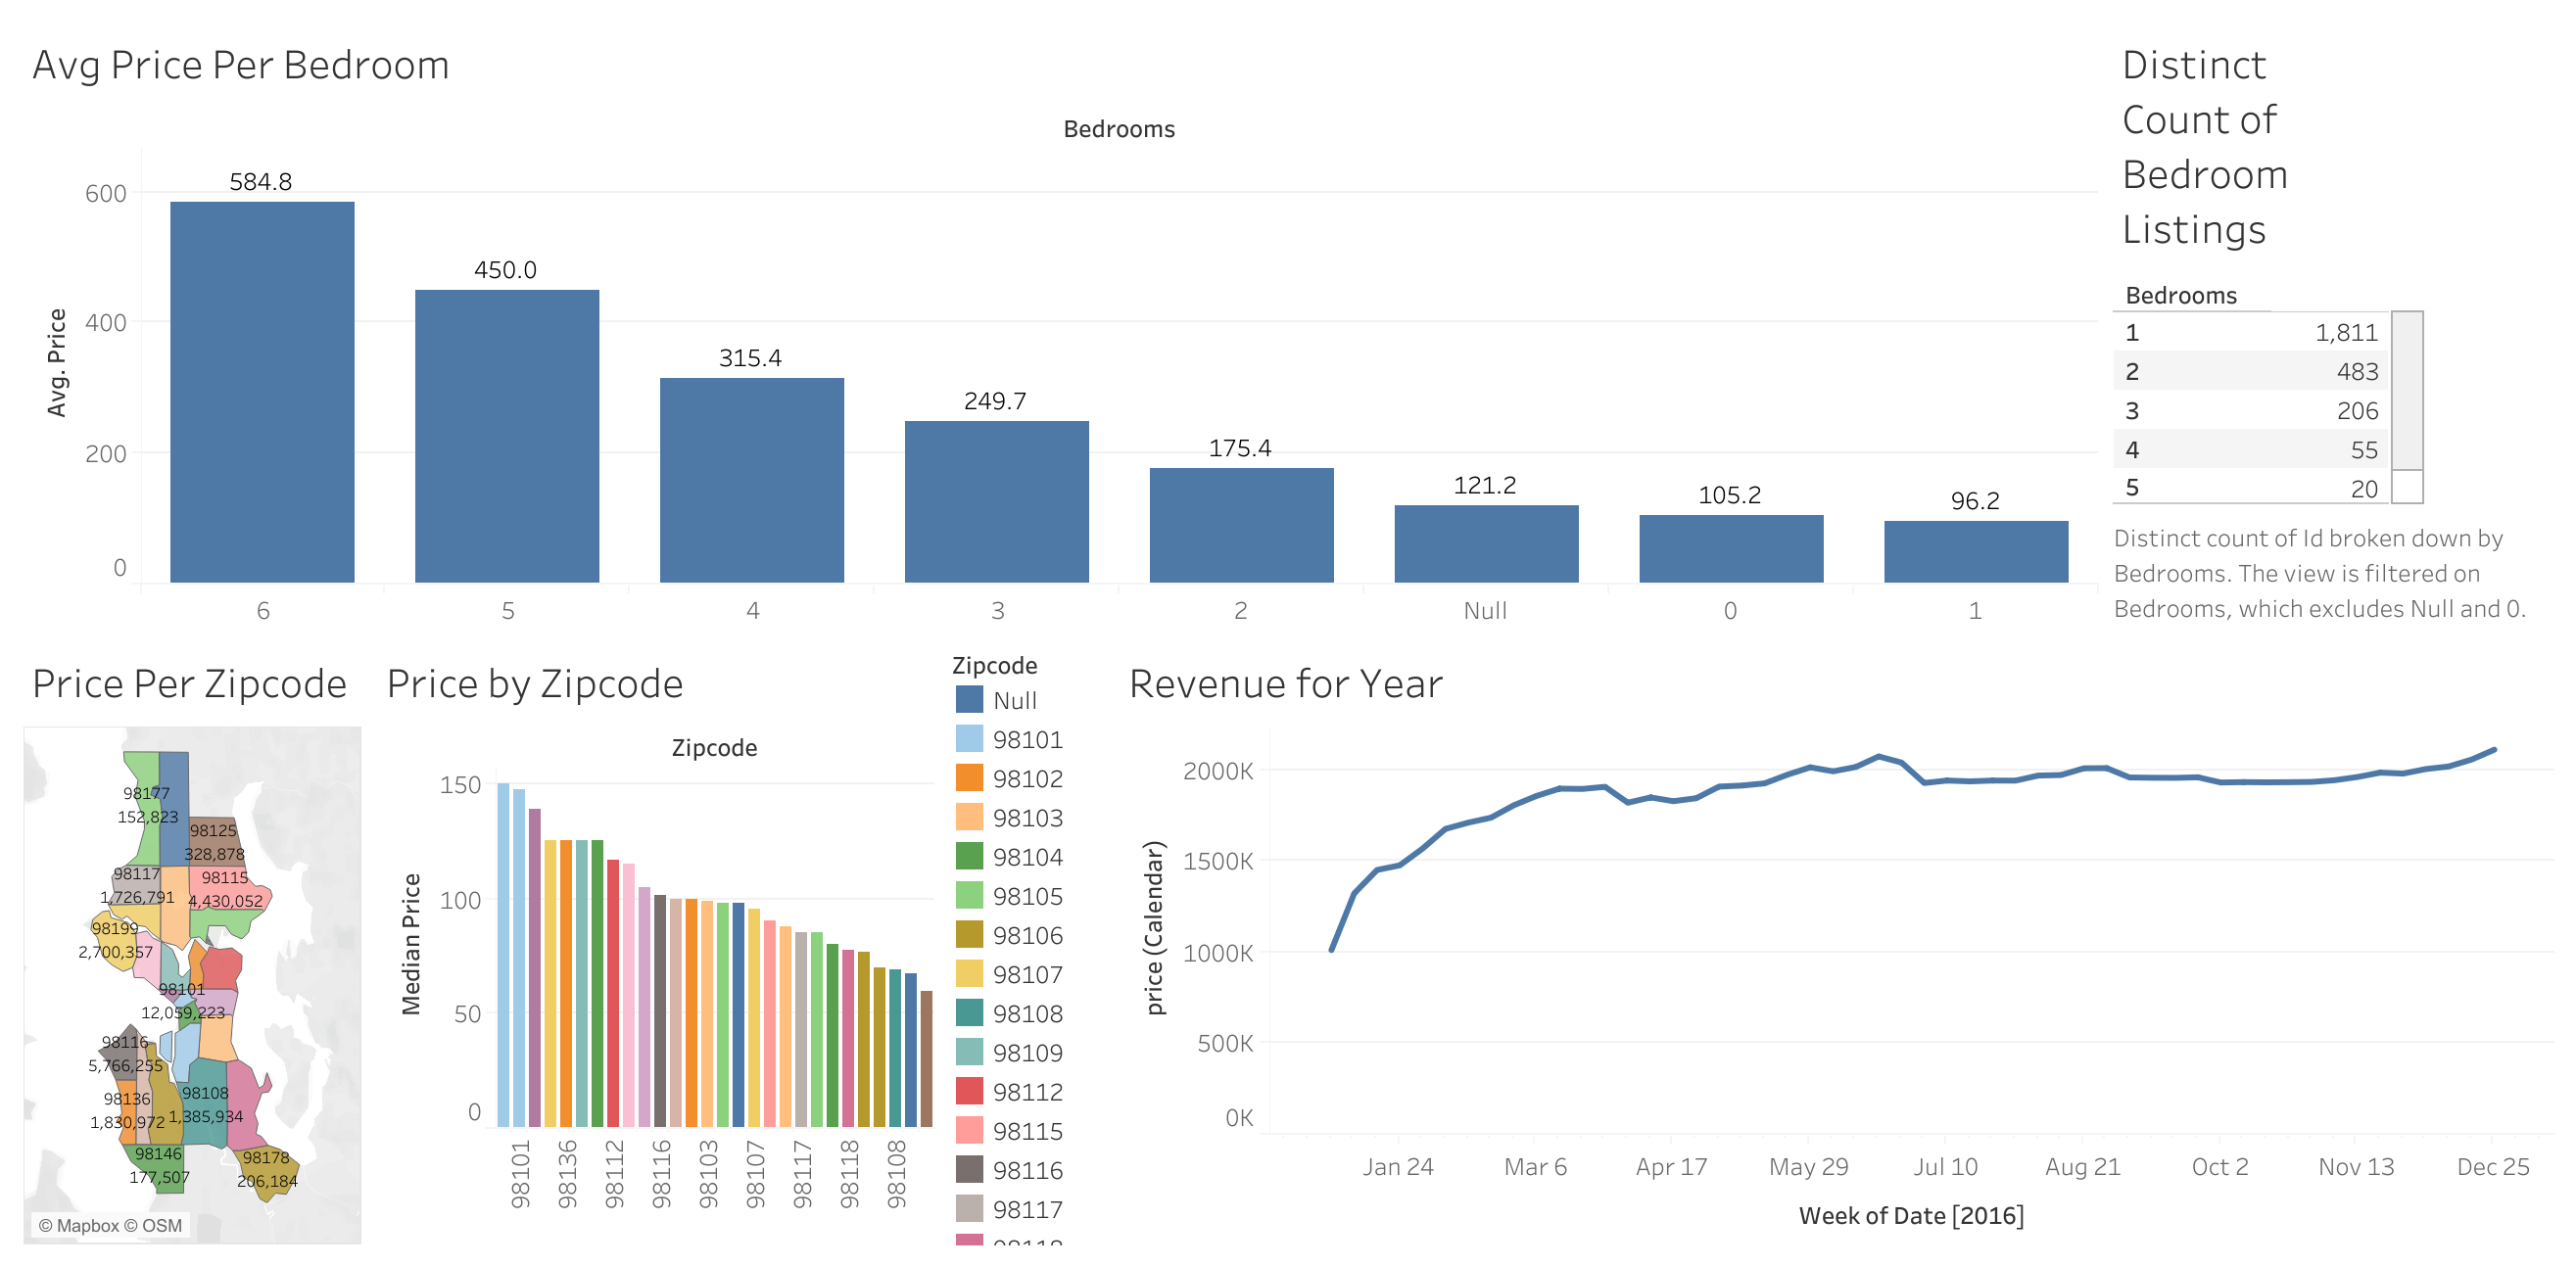

What the dashboard file says about the page in this screenshot:
{"tool":"tableau","page":{"name":"Dashboard 1","canvas":[1000,1000],"units":"permille","ordinal":0},"visuals":[{"type":"worksheet","title":"Sheet 4","mark":"Automatic","rows":["price"],"cols":["bedrooms"],"box":[9.4,10.7,805.2,488.6]},{"type":"worksheet","title":"Sheet 5","mark":"Automatic","rows":["bedrooms"],"box":[814.6,10.7,176.1,488.6]},{"type":"worksheet","title":"Sheet 2","mark":"Multipolygon","box":[9.4,499.3,212.4,490]},{"type":"worksheet","title":"Sheet 1","mark":"Automatic","rows":["price"],"cols":["zipcode"],"box":[221.8,499.3,342.7,490]},{"type":"legend","title":"Sheet 1","param":"[federated.1q60x8v0cqzh5m1di98ho1t0lswb].[none:zipcode:ok]","box":[564.6,499.3,102.1,490]},{"type":"worksheet","title":"Sheet 3","mark":"Automatic","rows":["price (Calendar)"],"cols":["date"],"box":[666.7,499.3,323.9,490]}]}

Visuals, with their boxes on the dashboard's canvas, which has no fixed pixel size, in thousandths of its width and height (x1, y1, x2, y2). These are canvas units, not pixel positions in the 2576x1267 screenshot, which may show the page scaled, cropped or inside an application window:
"Sheet 4" worksheet: pyautogui.locateOnScreen(9, 11, 815, 499)
"Sheet 5" worksheet: pyautogui.locateOnScreen(815, 11, 991, 499)
"Sheet 2" worksheet (Multipolygon marks): pyautogui.locateOnScreen(9, 499, 222, 989)
"Sheet 1" worksheet: pyautogui.locateOnScreen(222, 499, 564, 989)
"Sheet 1" legend: pyautogui.locateOnScreen(565, 499, 667, 989)
"Sheet 3" worksheet: pyautogui.locateOnScreen(667, 499, 991, 989)
